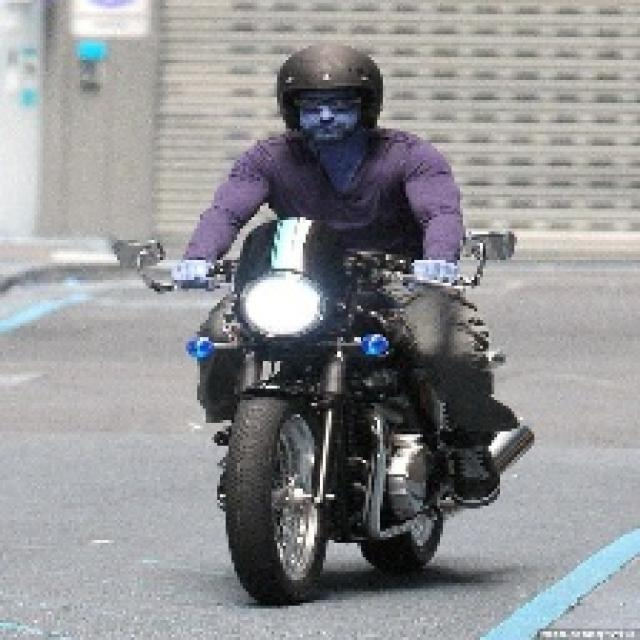bike: (186, 254, 460, 606)
